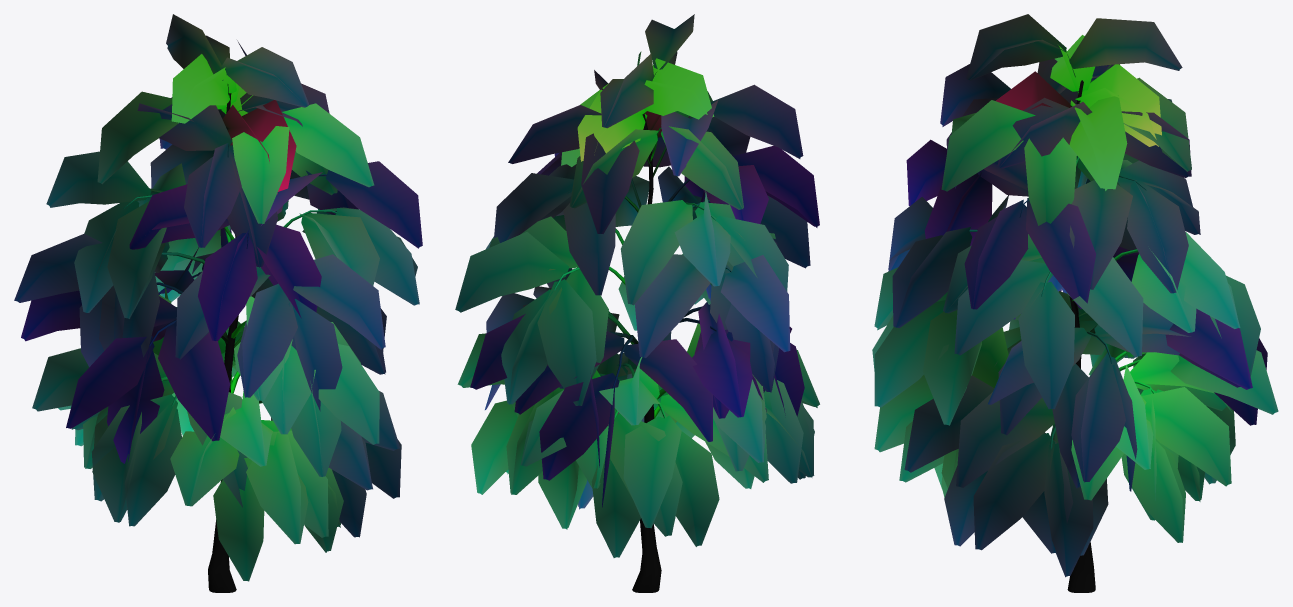
Rendered from Brich.fbx.
3 views of the same model, side by side, from view 1: azimuth 30°, elevation 25°; view 2: azimuth 150°, elevation 25°; view 3: azimuth 270°, elevation 25° (orthographic). The views are drawn at different scales.
Visible parts, largest first — view 1: Tree_1, Tree_2, Tree_0; view 2: Tree_1, Tree_2, Tree_0; view 3: Tree_1, Tree_2, Tree_0.
Part boxes in pixels (x1=…): Tree_1: x1=14, y1=14, x2=422, y2=581; Tree_2: x1=171, y1=54, x2=296, y2=194; Tree_0: x1=123, y1=69, x2=336, y2=592; Tree_1: x1=455, y1=14, x2=819, y2=557; Tree_2: x1=561, y1=58, x2=714, y2=166; Tree_0: x1=554, y1=61, x2=731, y2=592; Tree_1: x1=872, y1=14, x2=1278, y2=577; Tree_2: x1=996, y1=35, x2=1161, y2=190; Tree_0: x1=969, y1=41, x2=1154, y2=592.
Size of the model in its own units: 65 by 98.45 by 64.33.
